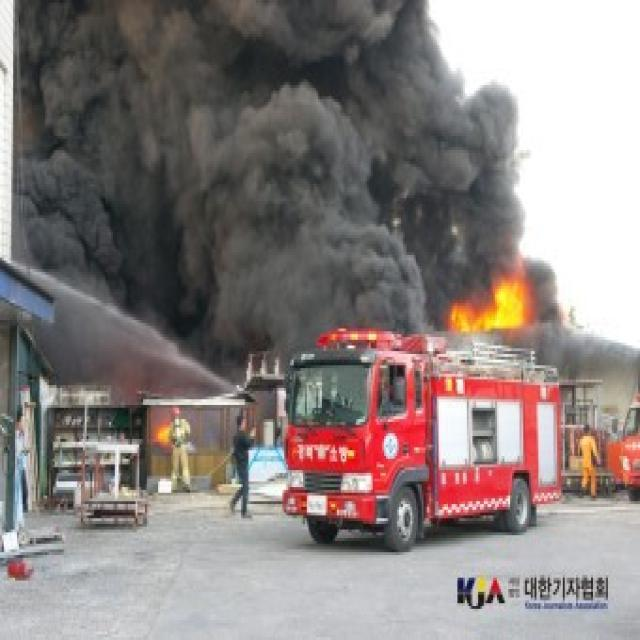Fire: (447, 274, 534, 334), (315, 318, 429, 344), (243, 353, 284, 379), (152, 411, 180, 448)
Smoke: (120, 1, 550, 364), (522, 246, 576, 364)
